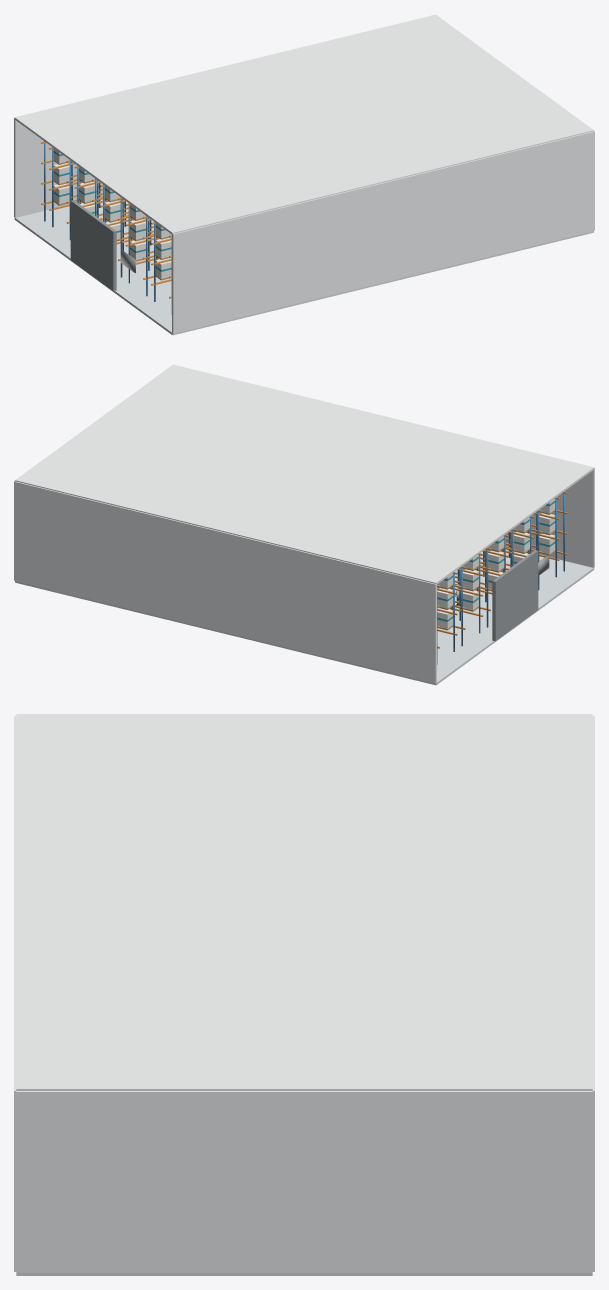
The model's file is cold_storage_700_pallets.glb.
3 views of the same model, one above another, from view 1: azimuth 30°, elevation 25°; view 2: azimuth 150°, elevation 25°; view 3: azimuth 270°, elevation 25° (orthographic). The views are drawn at different scales.
Parts seen in each view (by area): view 1: CS_Ceiling, CS_WallY-1, CS_Floor, CS_WallY1, CS_DoorFrame; view 2: CS_Ceiling, CS_WallY1, CS_Floor, CS_WallY-1, CS_DoorFrame; view 3: CS_Ceiling, CS_WallXback, CS_Floor, CS_WallY1, CS_WallY-1.
Part boxes in pixels (box(x1,y1,x2,y2)): CS_Ceiling: box(14, 14, 593, 234); CS_WallY-1: box(172, 131, 594, 333); CS_Floor: box(14, 199, 593, 335); CS_WallY1: box(14, 118, 102, 217); CS_DoorFrame: box(70, 200, 116, 291); CS_Ceiling: box(15, 364, 594, 584); CS_WallY1: box(14, 481, 436, 683); CS_Floor: box(15, 549, 594, 685); CS_WallY-1: box(506, 468, 594, 567); CS_DoorFrame: box(492, 550, 538, 641); CS_Ceiling: box(16, 714, 592, 1090); CS_WallXback: box(16, 1091, 592, 1272); CS_Floor: box(16, 1272, 592, 1275); CS_WallY1: box(592, 716, 594, 1271); CS_WallY-1: box(14, 716, 16, 1271).
Size of the model in its own units: 40.25 by 9.3 by 26.2.
